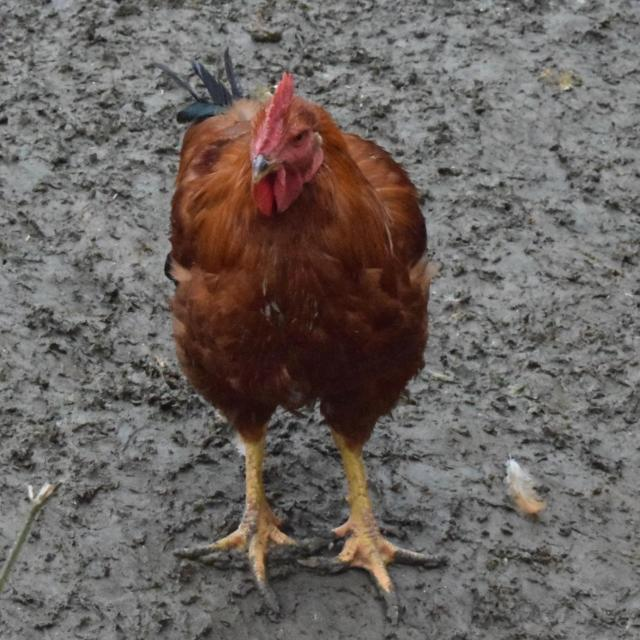cook: (160, 47, 443, 623)
